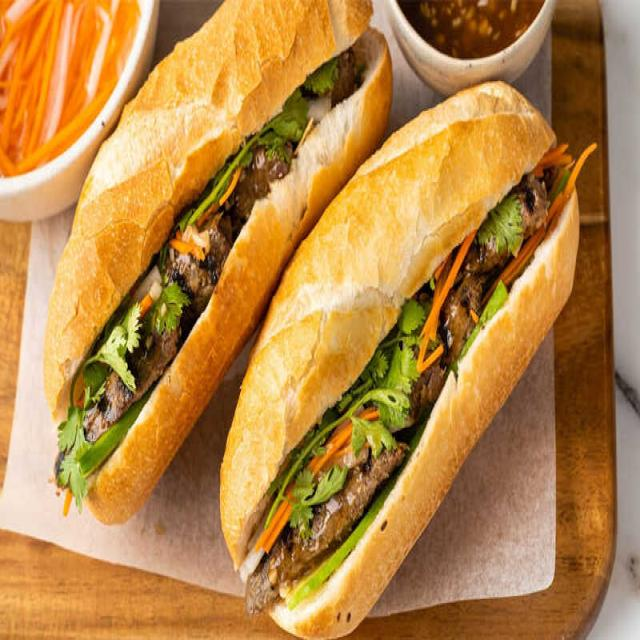banh mi: (221, 82, 595, 637), (43, 0, 392, 522), (221, 82, 552, 563)
